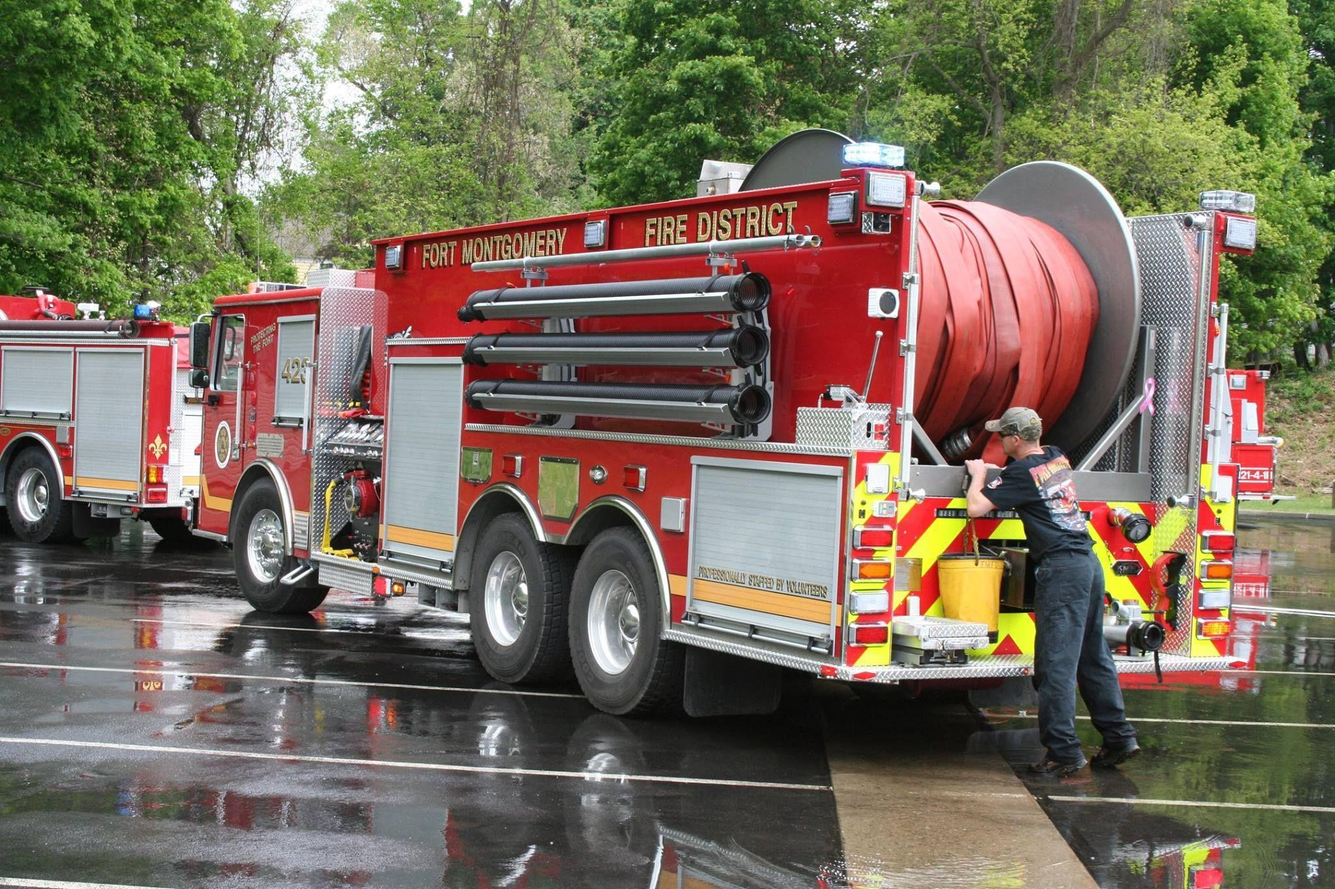Fire-engine: (194, 132, 1275, 722)
